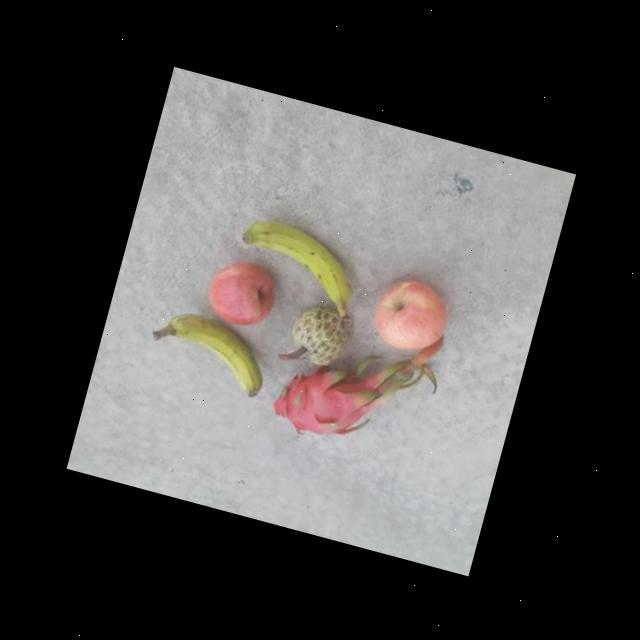Sakya fruit: (284, 300, 354, 370)
apple: (366, 267, 456, 359), (198, 250, 282, 334)
banana: (142, 303, 274, 401), (227, 214, 364, 308)
pitaya: (267, 358, 370, 446)
